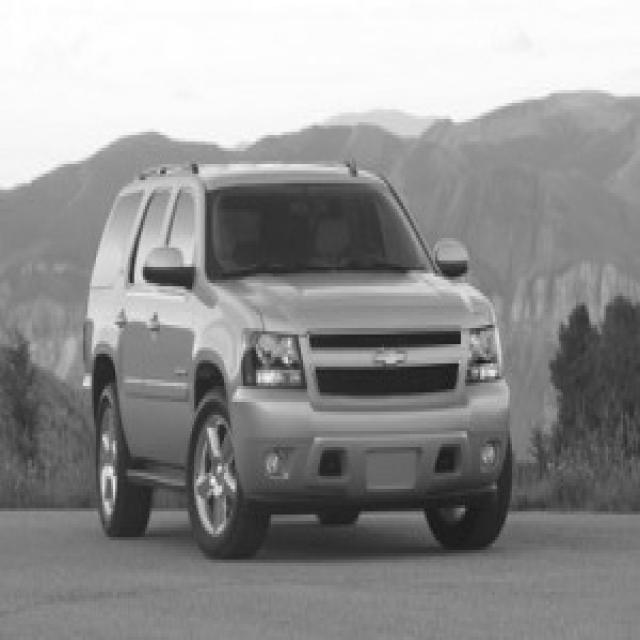car: (81, 158, 512, 556)
